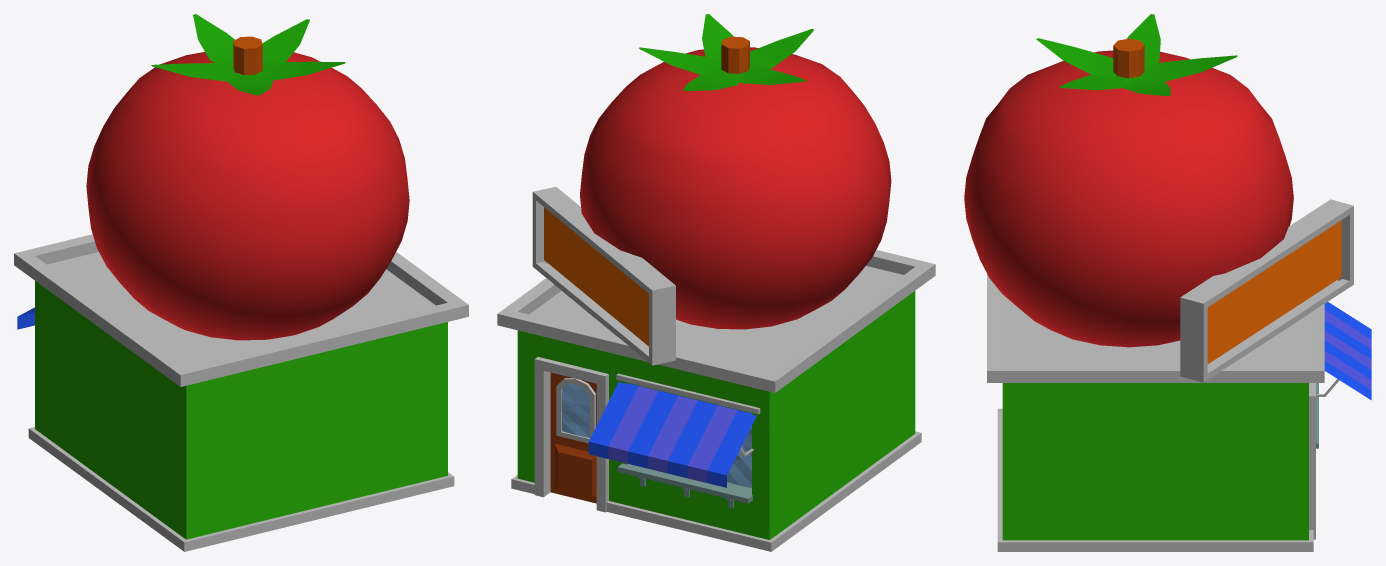
File: Tomatoes_shop1.fbx
3 renders of one model, left to right at view 1: azimuth 30°, elevation 25°; view 2: azimuth 150°, elevation 25°; view 3: azimuth 270°, elevation 25°, orthographic. The views are drawn at different scales.
Parts seen in each view (by area): view 1: TomatoExport.002, Main_part_pink_Cube.001, Main_part_white_Cube.001; view 2: TomatoExport.002, Main_part_pink_Cube.001, Main_part_white_Cube.001, Signboard_white_Cube.001, Canopy_pink_Plane, Signboard_violet_Cube.001, Canopy_yellow_Plane.001, Door_Cube.001, Glass_Cube.001, Windowsill_Cube.001, Frame_Cube.001; view 3: TomatoExport.002, Main_part_pink_Cube.001, Main_part_white_Cube.001, Signboard_white_Cube.001, Signboard_violet_Cube.001, Canopy_pink_Plane, Canopy_yellow_Plane.001.
Part boxes in pixels (left/top/right/bottom): TomatoExport.002: left=86, top=14, right=409, bottom=340; Main_part_pink_Cube.001: left=35, top=281, right=447, bottom=539; Main_part_white_Cube.001: left=14, top=234, right=468, bottom=551; TomatoExport.002: left=580, top=14, right=891, bottom=329; Main_part_pink_Cube.001: left=517, top=291, right=915, bottom=539; Main_part_white_Cube.001: left=497, top=250, right=935, bottom=551; Signboard_white_Cube.001: left=532, top=186, right=675, bottom=365; Canopy_pink_Plane: left=588, top=382, right=756, bottom=487; Signboard_violet_Cube.001: left=544, top=207, right=648, bottom=346; Canopy_yellow_Plane.001: left=608, top=386, right=737, bottom=482; Door_Cube.001: left=550, top=372, right=596, bottom=503; Glass_Cube.001: left=561, top=384, right=751, bottom=487; Windowsill_Cube.001: left=617, top=463, right=752, bottom=508; Frame_Cube.001: left=556, top=378, right=595, bottom=443; TomatoExport.002: left=964, top=14, right=1293, bottom=347; Main_part_pink_Cube.001: left=1002, top=383, right=1308, bottom=540; Main_part_white_Cube.001: left=987, top=274, right=1324, bottom=551; Signboard_white_Cube.001: left=1180, top=199, right=1353, bottom=382; Signboard_violet_Cube.001: left=1207, top=220, right=1341, bottom=363; Canopy_pink_Plane: left=1324, top=302, right=1371, bottom=400; Canopy_yellow_Plane.001: left=1324, top=310, right=1371, bottom=389.
Bounding box in the file's own units: 481 × 629 × 532.
